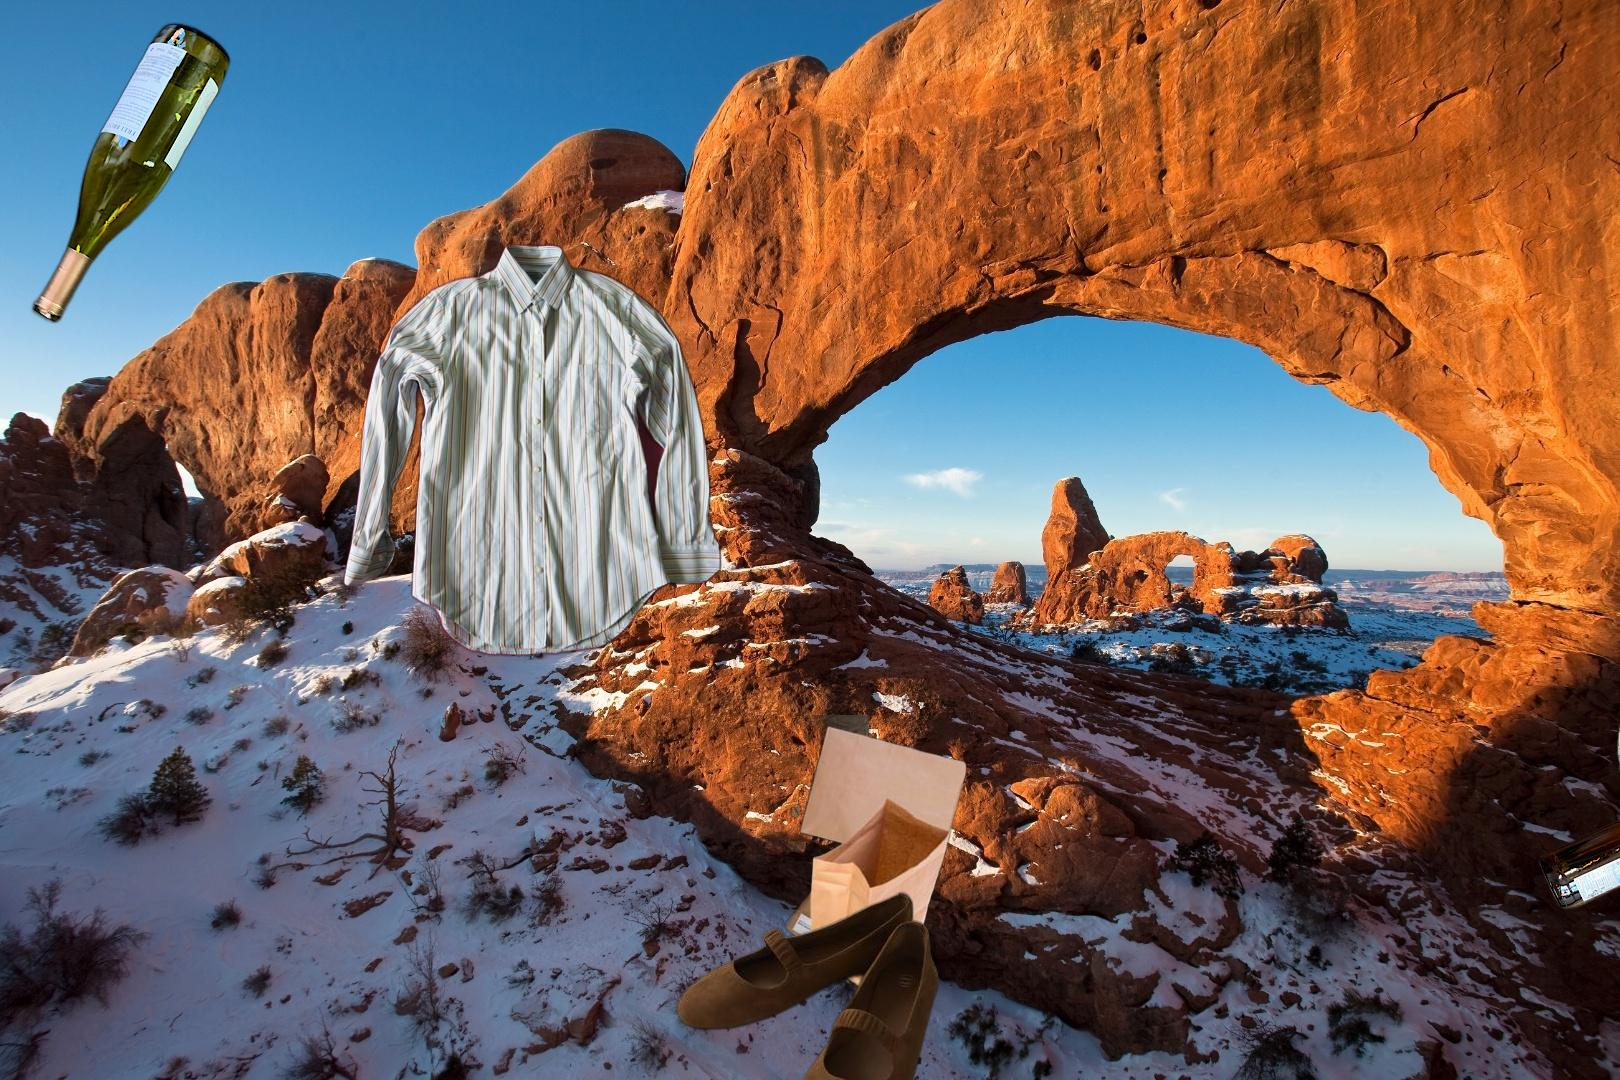clothes: (340, 240, 728, 661)
glass: (28, 17, 235, 329), (1481, 797, 1620, 1080)
metal-cans: (1612, 599, 1620, 879)
paper-bag: (780, 715, 970, 992)
shoes: (674, 887, 943, 1080)
